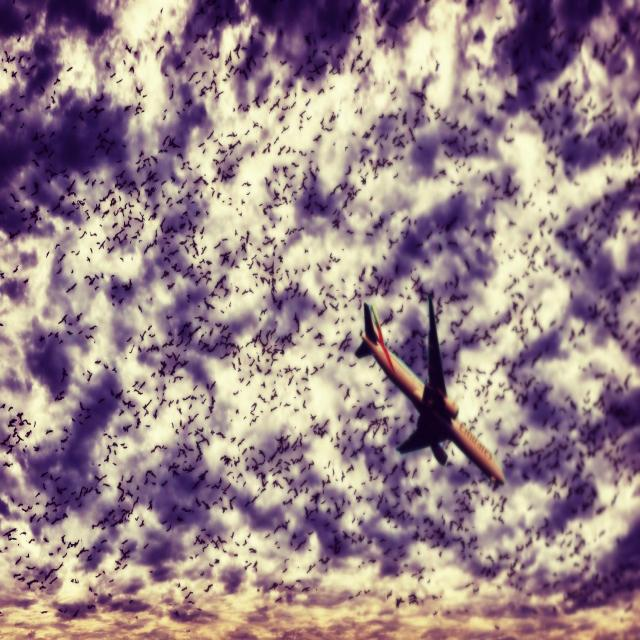airplane: (355, 293, 505, 487)
